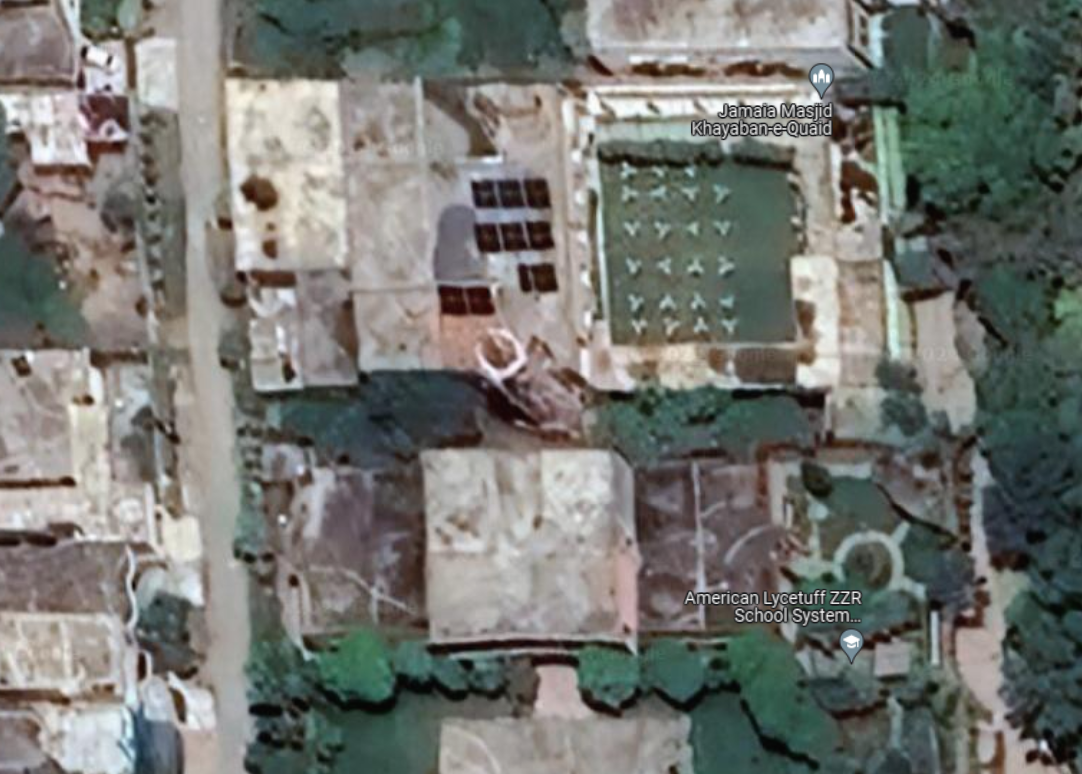solar-panel: (470, 175, 557, 293), (443, 287, 495, 312)
